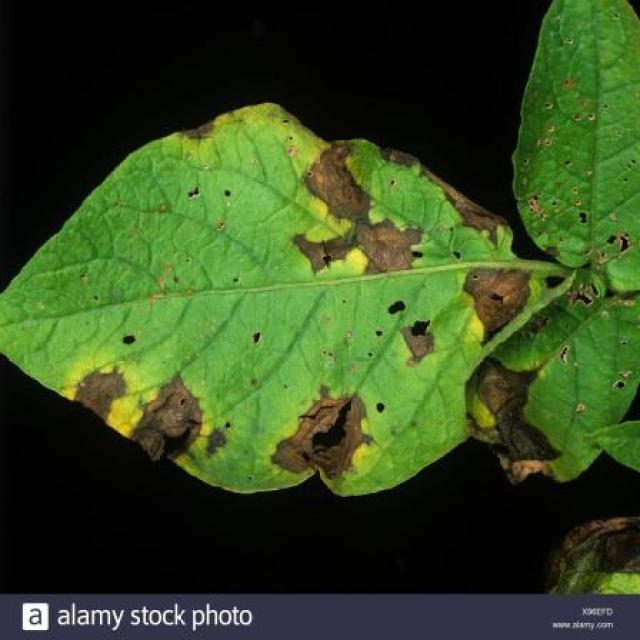Early Blight: (0, 93, 563, 500)
